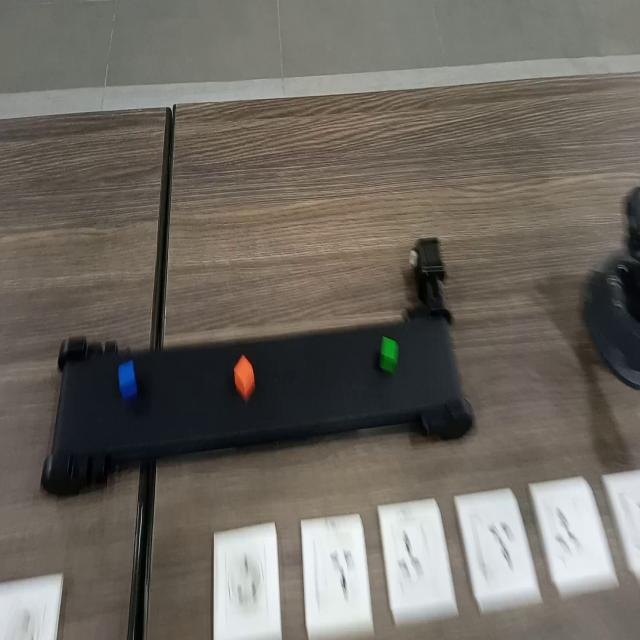cube: (377, 329, 405, 375), (231, 349, 257, 398), (116, 355, 142, 401)
